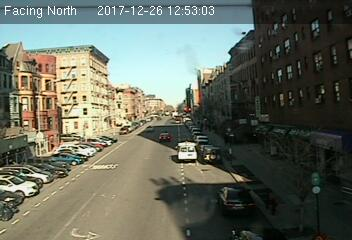car: (217, 185, 254, 216), (203, 147, 222, 163), (159, 132, 170, 141)
truck: (176, 142, 196, 162)
